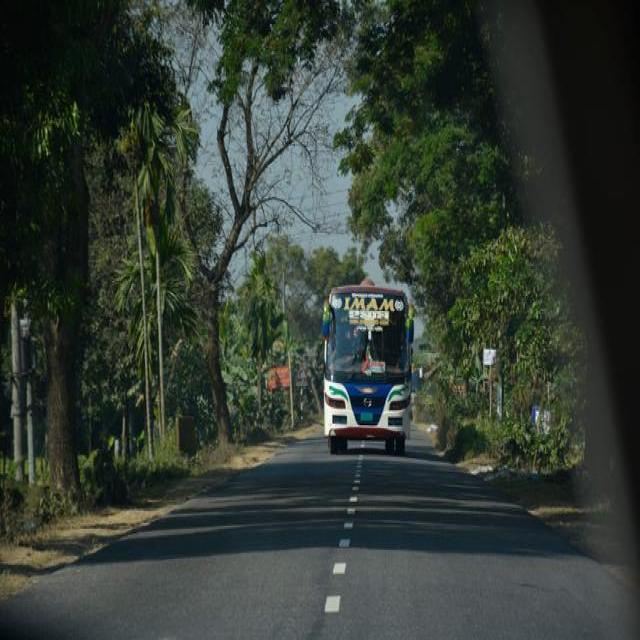bus: (321, 283, 411, 450)
